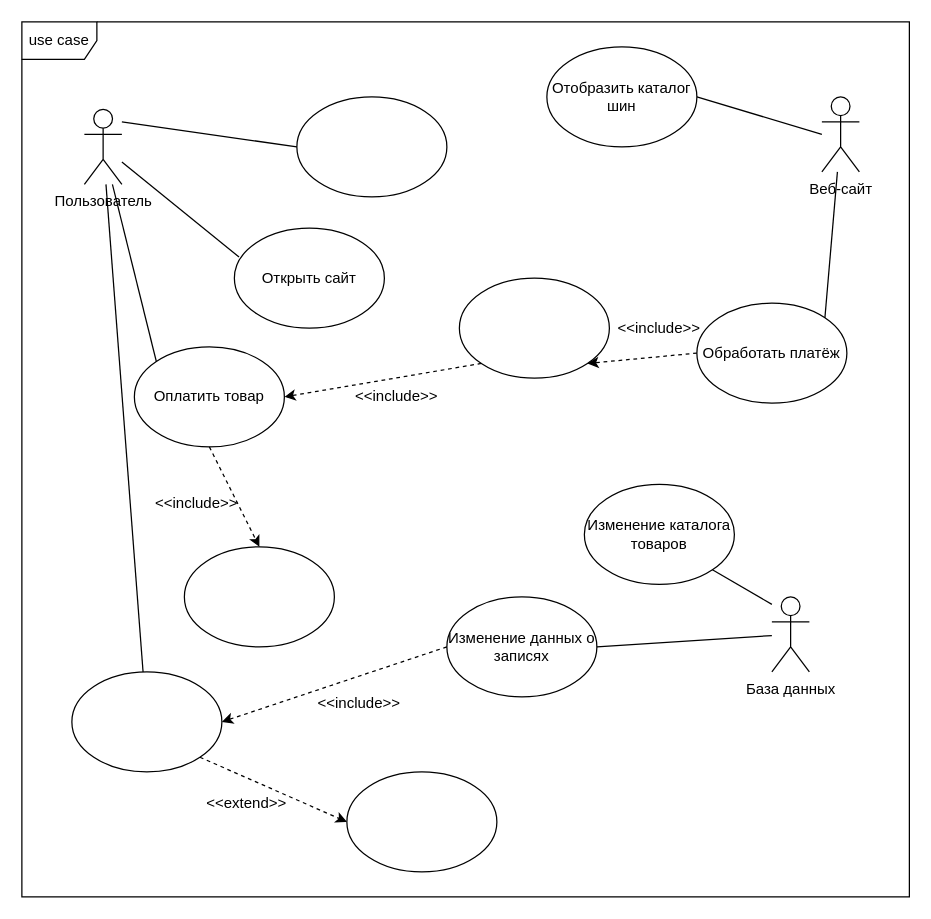
Some shapes in this 931 by 919 pixel diagram are drawn without their labels. The shapes that lost their labels are listed below. From the top down, each one's box as (x1, y1, x2, y2) in pixels, then its label:
(296, 96, 447, 197): Просмотр каталога шин
(458, 277, 609, 378): Запросить платёжные данные
(183, 546, 334, 647): Регистрация на сайте
(71, 671, 222, 772): Записаться в автосервис
(346, 771, 497, 872): Отмена записи
